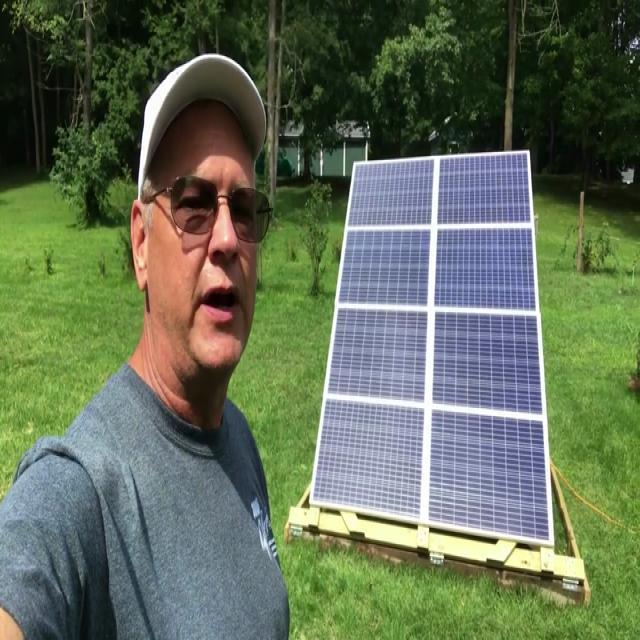Normal Solar Panel: (310, 153, 555, 542)
